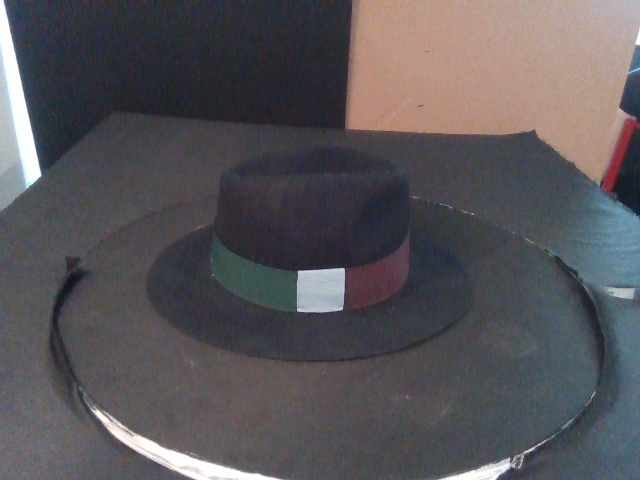hat: (145, 147, 473, 362)
